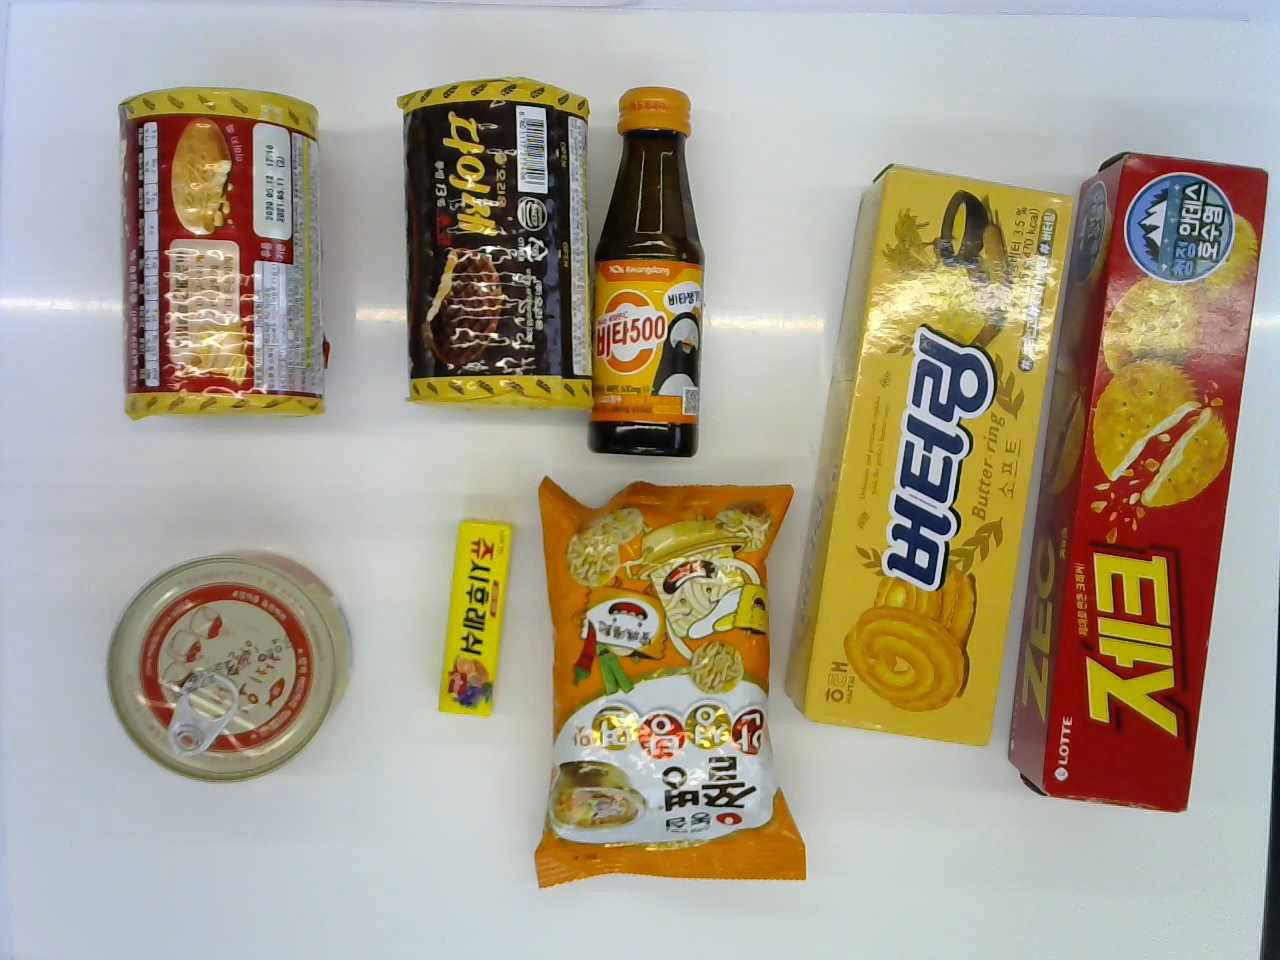buttering: (790, 144, 1071, 746)
diget_choco: (388, 69, 593, 406)
diget_ori: (109, 77, 325, 419)
jjolbyung_noodle: (525, 469, 808, 890)
juicyfresh: (429, 511, 515, 725)
tuna: (100, 536, 348, 786)
vita500: (586, 82, 712, 456)
zec: (1032, 140, 1267, 812)
